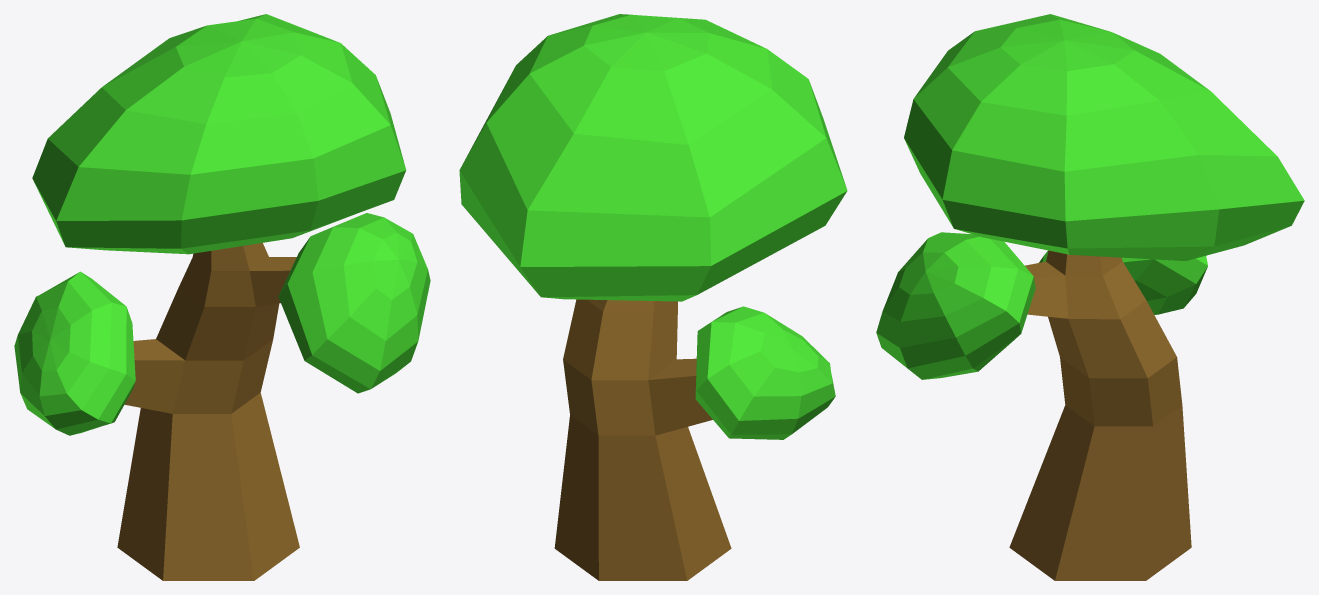
Rendered from Arvore.fbx.
3 views of the same model, side by side, from view 1: azimuth 30°, elevation 25°; view 2: azimuth 150°, elevation 25°; view 3: azimuth 270°, elevation 25° (orthographic). The views are drawn at different scales.
Visible parts, largest first — view 1: Cylinder; view 2: Cylinder; view 3: Cylinder.
Boxes of the visible parts, x1,y1,x2,y2 form: Cylinder: [14, 14, 430, 580]; Cylinder: [459, 14, 847, 580]; Cylinder: [876, 14, 1304, 580].
Size of the model in its own units: 682 by 970 by 731.
